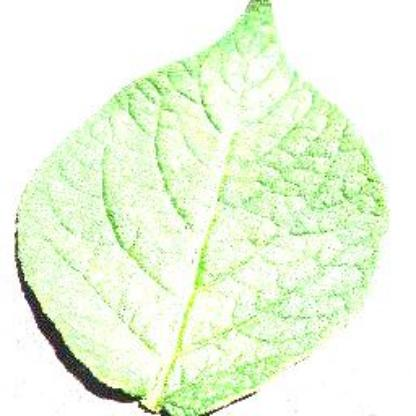Healthy-plant: (12, 0, 384, 416)
